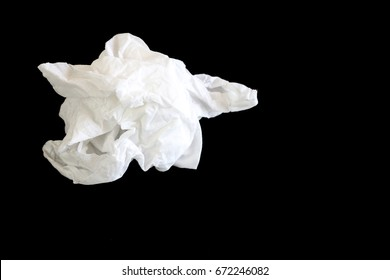Tissue: (36, 29, 259, 187)
